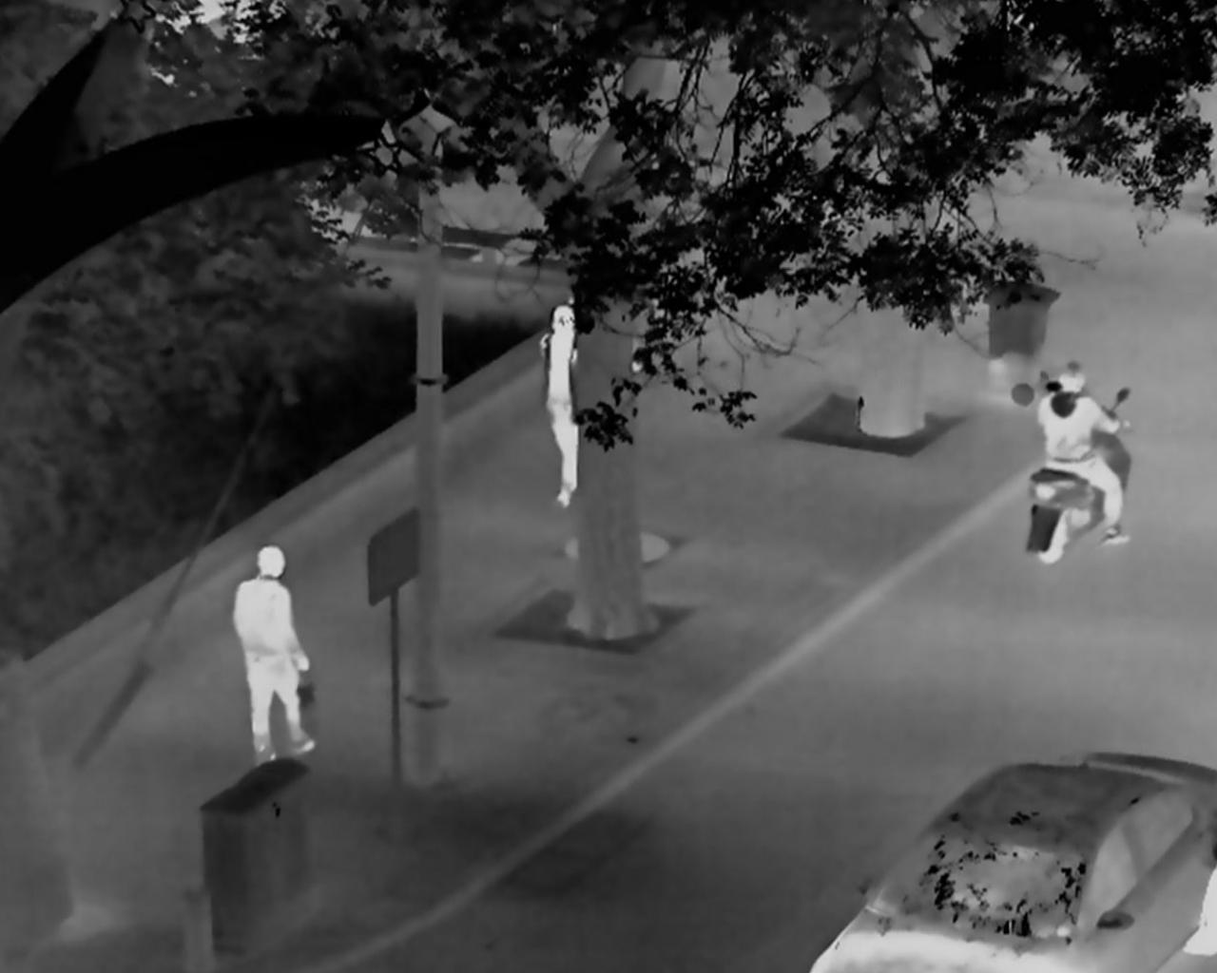person: (230, 544, 318, 764), (1035, 361, 1130, 546), (541, 305, 581, 508)
